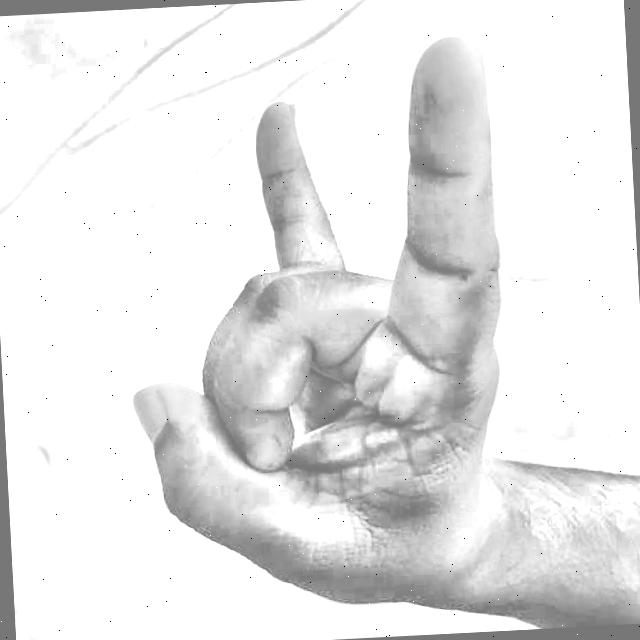Cha: (81, 11, 558, 640)
